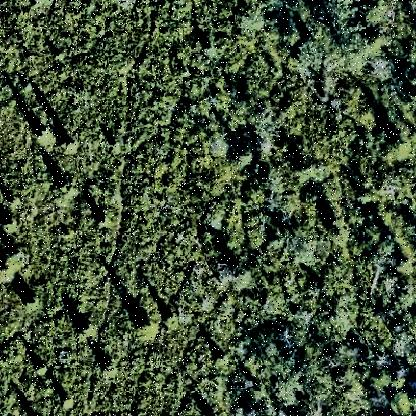tree-top: (320, 215, 358, 251), (220, 259, 254, 289), (228, 138, 253, 171), (134, 316, 161, 344), (291, 158, 316, 186), (57, 174, 83, 200), (73, 317, 101, 341), (97, 357, 121, 382), (34, 124, 58, 147), (20, 291, 40, 312)
